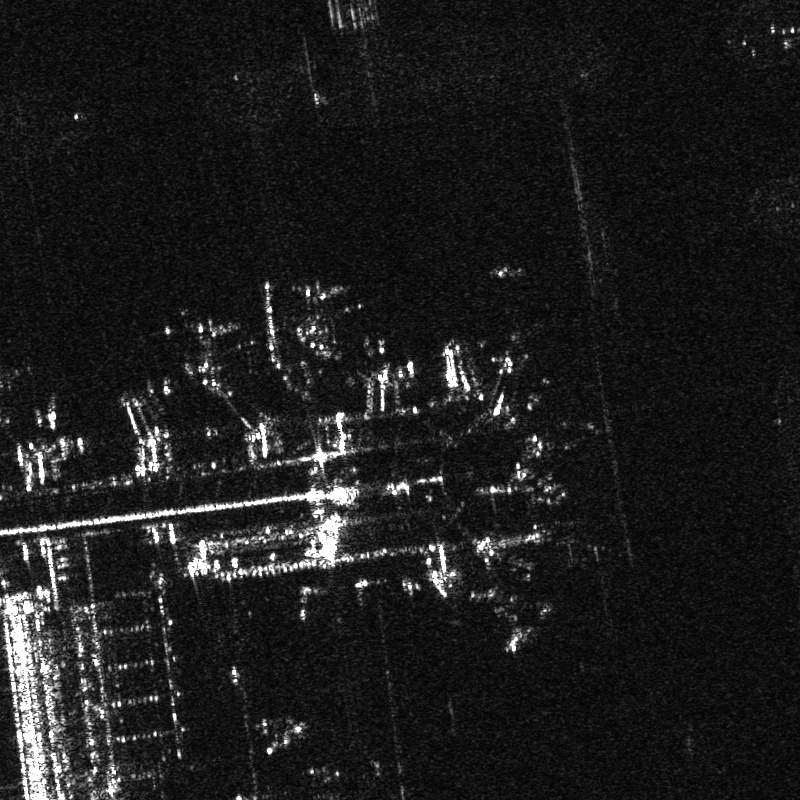A220: (179, 301, 241, 357), (286, 267, 345, 316)
